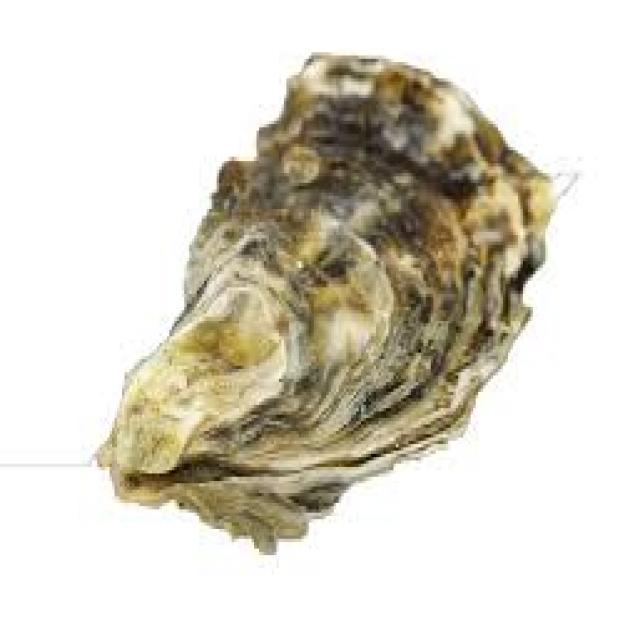Oyster- Indeterminate: (99, 54, 554, 551)
